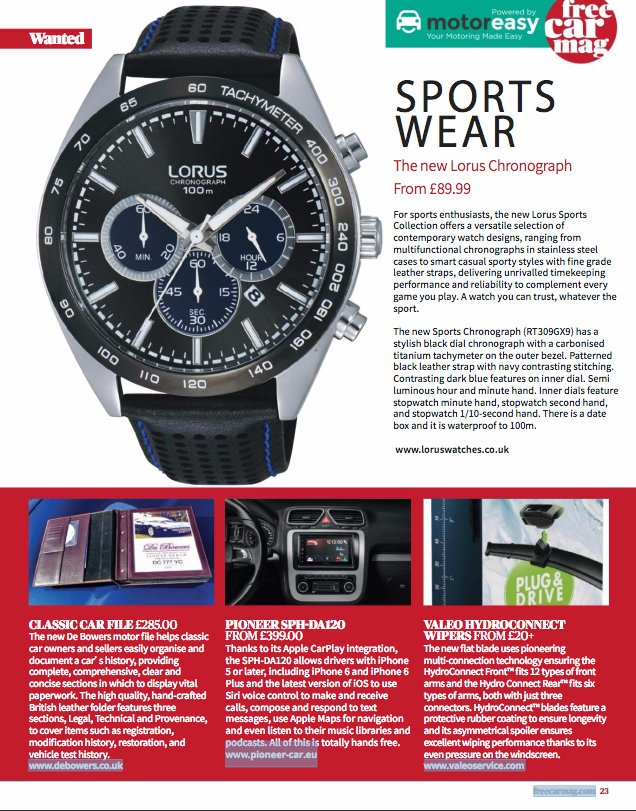clock: (66, 101, 330, 373)
